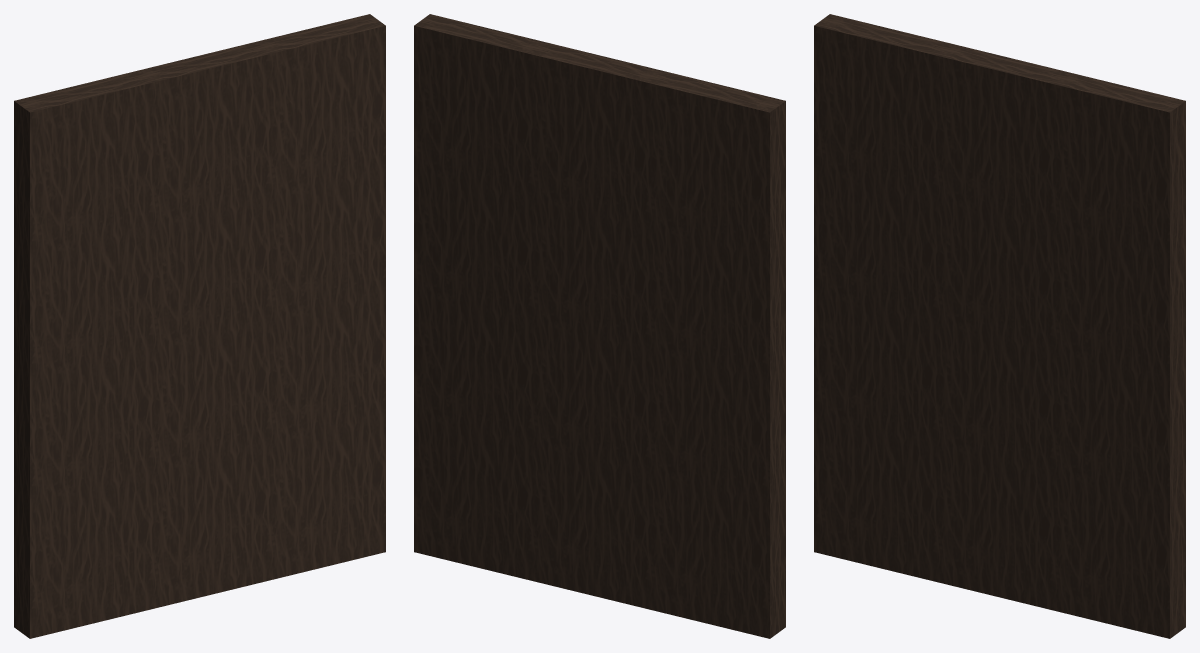
Rendered from Door.fbx.
3 views of the same model, side by side, from view 1: azimuth 30°, elevation 25°; view 2: azimuth 150°, elevation 25°; view 3: azimuth 330°, elevation 25° (orthographic).
Visible parts, largest first — view 1: Door; view 2: Door; view 3: Door.
Boxes of the visible parts, x1,y1,x2,y2 form: Door: [14, 14, 385, 638]; Door: [414, 14, 785, 638]; Door: [814, 14, 1185, 638].
Size of the model in its own units: 142 by 200 by 11.01.
